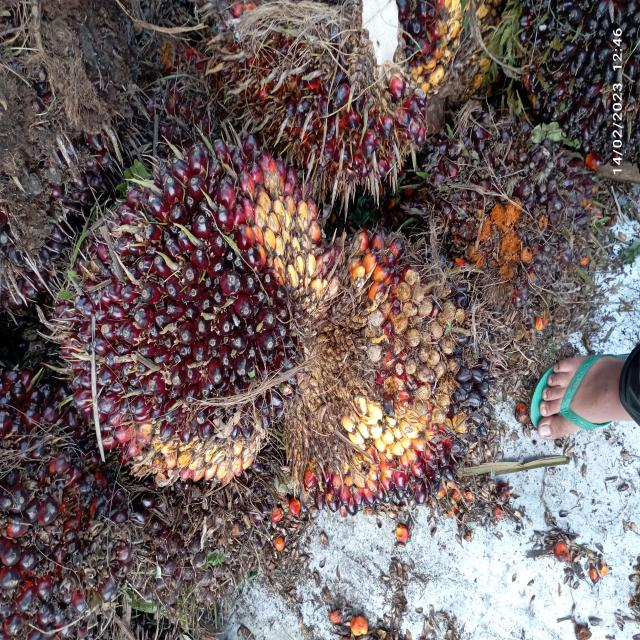fraksi 00: (260, 196, 539, 558), (423, 105, 596, 348)
fraksi 1: (26, 101, 330, 505)
